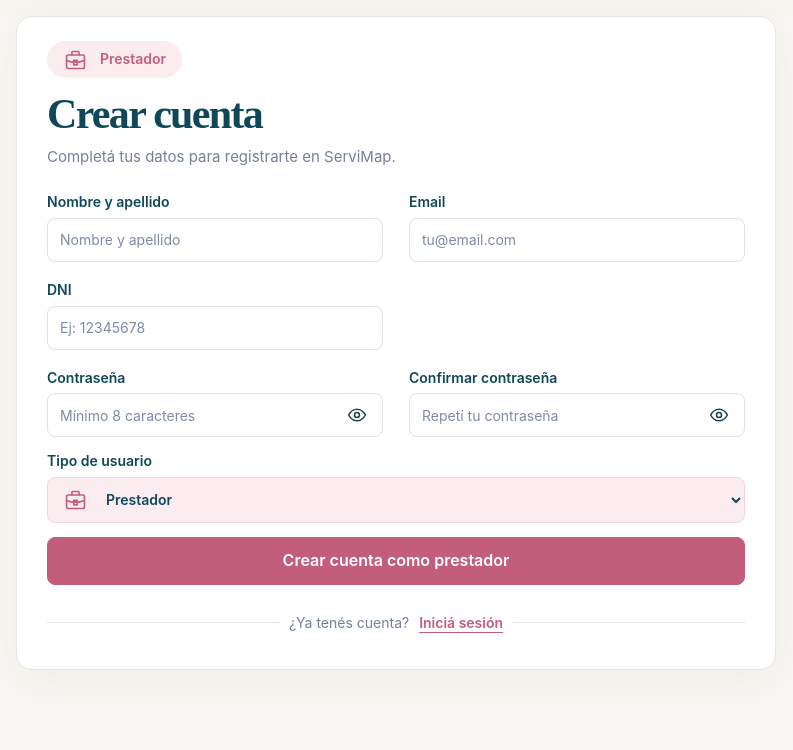
it: Registro conectado al backend › registra PRESTADOR con el contrato exacto y normaliza DNI
Type "Persona Apellido" into the field labelled "Nombre y apellido" at (215, 240), box [47,218,383,262]
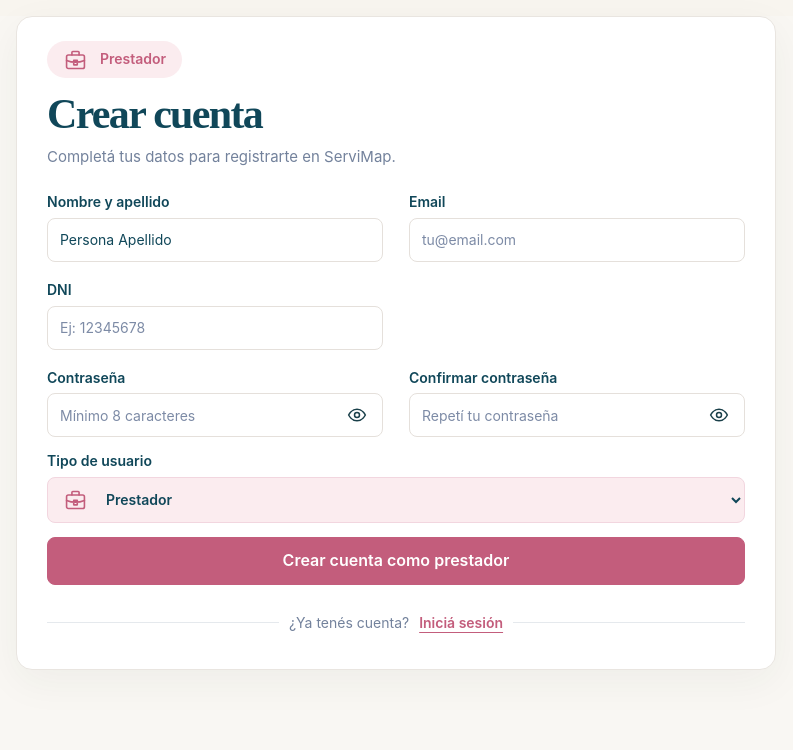
Type "12.345.678" into the field labelled "DNI" at (215, 328), box [47,306,383,350]
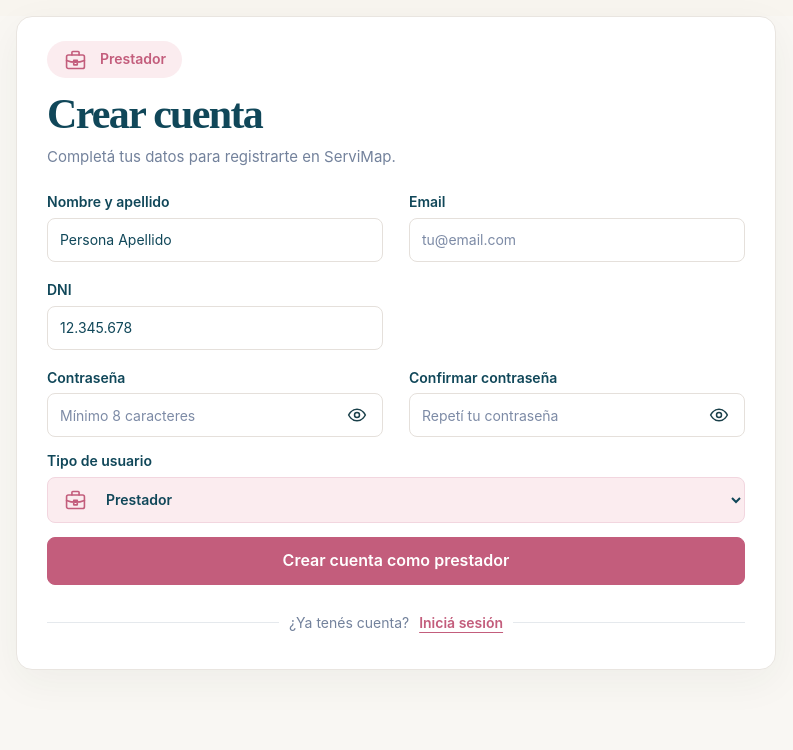
Type "PERSONA@example.test" into the field labelled "Email" at (577, 240), box [409,218,745,262]
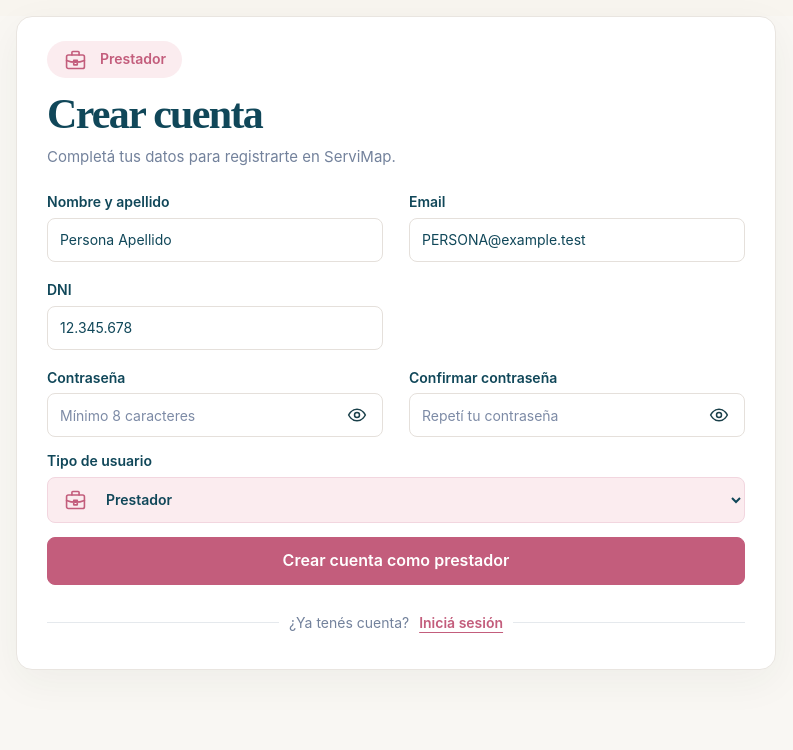
Type "clave1234" into the password field labelled "Contraseña" at (215, 415), box [47,393,383,437]
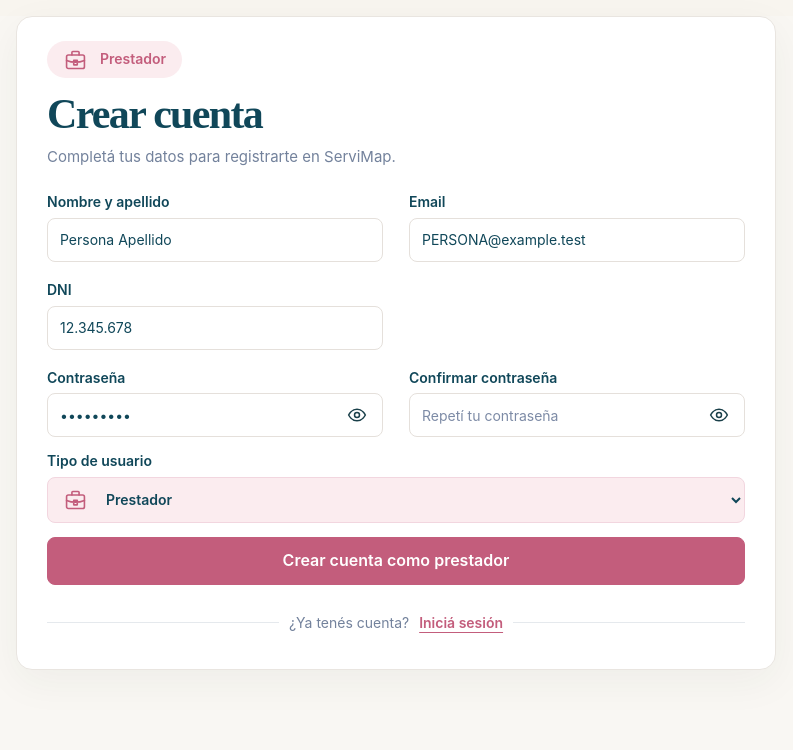
Type "clave1234" into the password field labelled "Confirmar contraseña" at (577, 415), box [409,393,745,437]
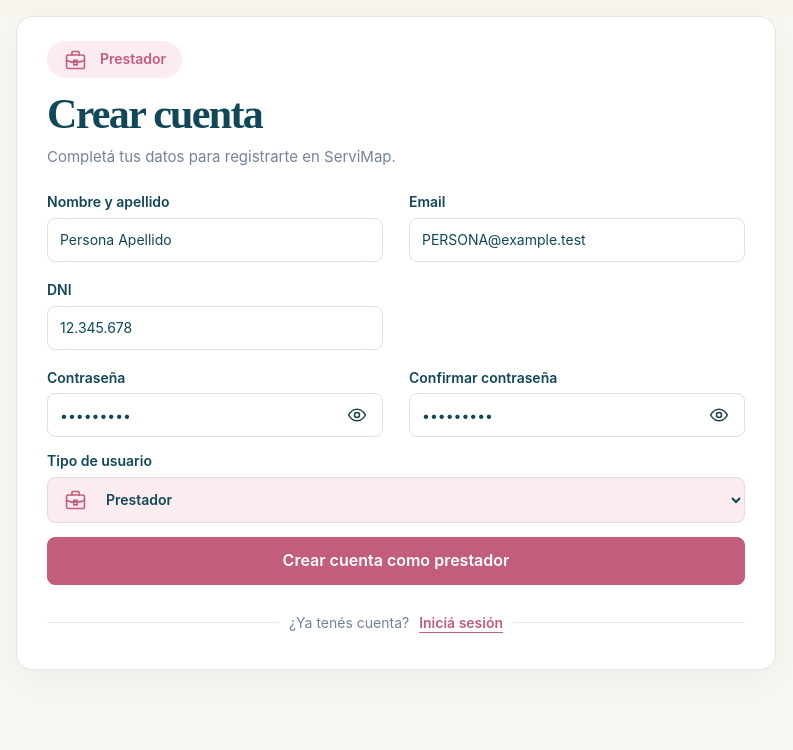
Click the button "Crear cuenta como prestador" at (396, 561), box [47,537,745,585]
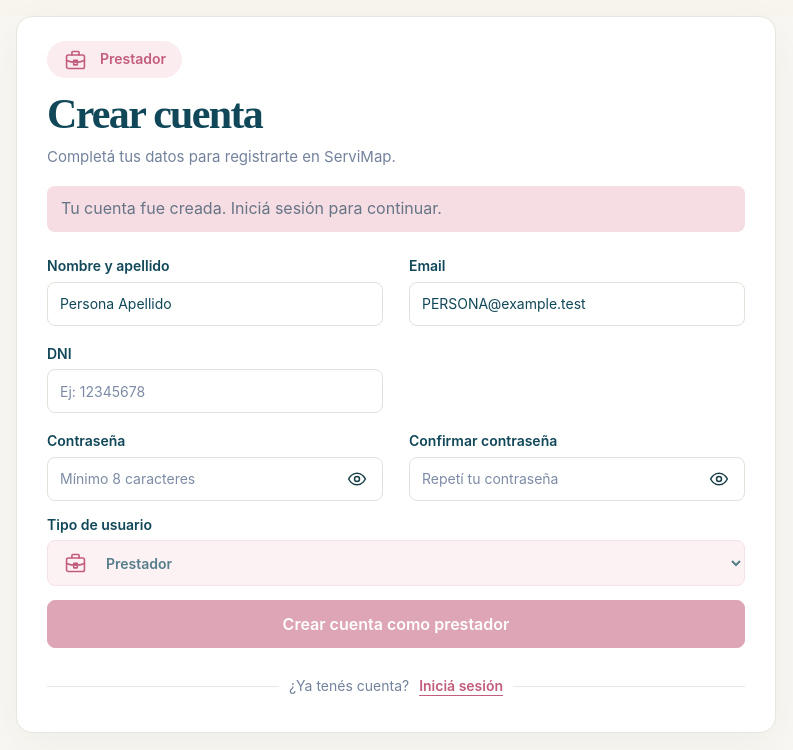
Result: the message shows "Tu cuenta fue creada" at [61,198,442,218]
Result: the password field labelled "Contraseña" is empty at [47,457,383,501]
